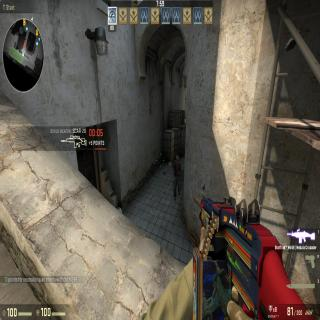T-Body: (173, 155, 181, 200)
T-Head: (174, 154, 180, 167)
